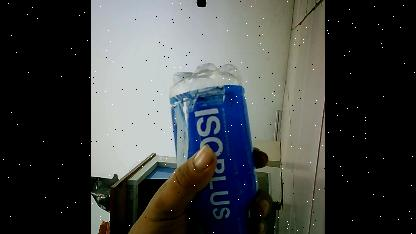Plastic Bottle: (162, 45, 285, 234)
